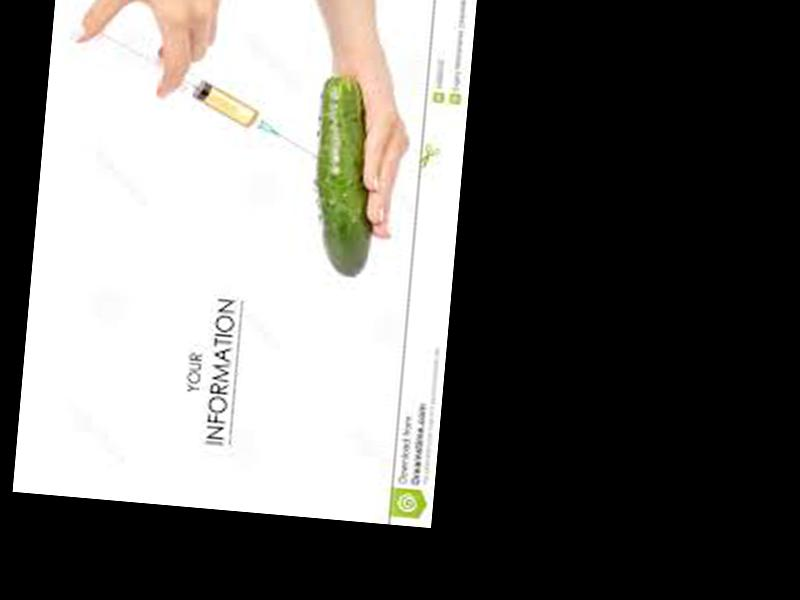Cucumber: (307, 74, 383, 278)
